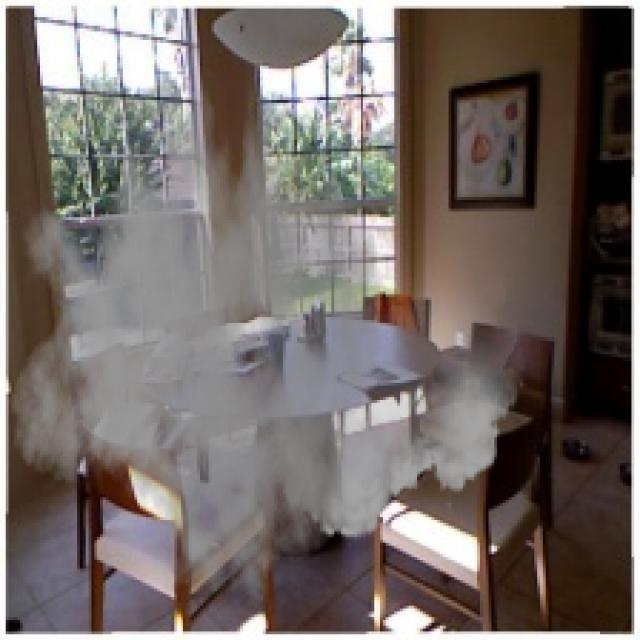no_helmet: (9, 57, 526, 609)
